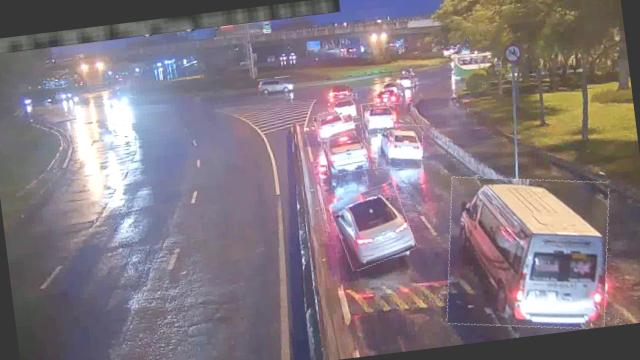Bus: (436, 164, 621, 340)
Car: (330, 182, 414, 270), (374, 121, 426, 172), (320, 123, 369, 175), (314, 107, 356, 141), (361, 100, 396, 131), (326, 92, 359, 121), (372, 81, 402, 106), (256, 76, 292, 96)
